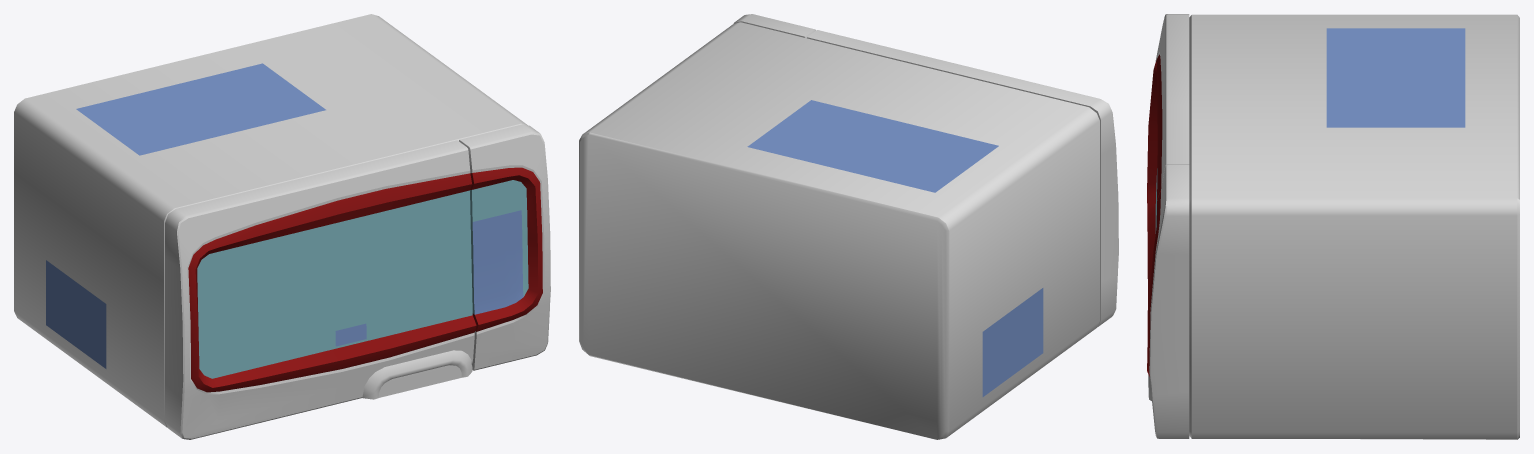
File: G80D23ASJQ2.FBX
The picture shows the model from 3 angles, left to right: view 1: azimuth 30°, elevation 25°; view 2: azimuth 150°, elevation 25°; view 3: azimuth 270°, elevation 25°; orthographic projection. The views are drawn at different scales.
Visible parts, largest first — view 1: G80D23ASJQ2; view 2: G80D23ASJQ2; view 3: G80D23ASJQ2.
Boxes of the visible parts, x1,y1,x2,y2 form: G80D23ASJQ2: (14,14,550,439); G80D23ASJQ2: (579,14,1118,439); G80D23ASJQ2: (1147,14,1519,439).
Bounding box in the file's own units: 48.38 × 39 × 28.1.
